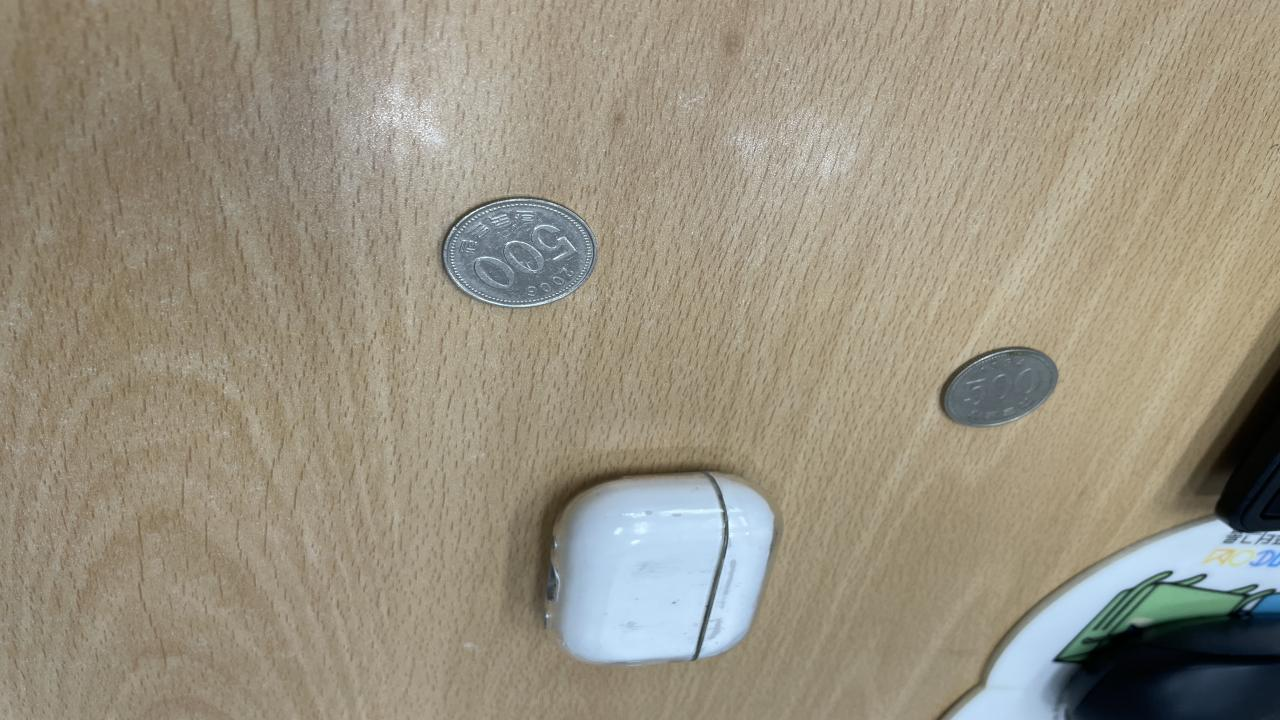coin: (438, 195, 604, 310), (936, 344, 1062, 432)
